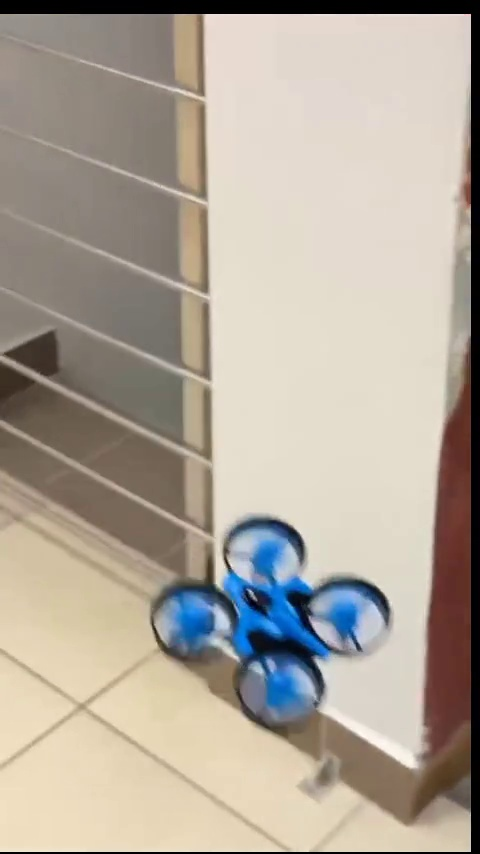drone: (146, 521, 390, 725)
